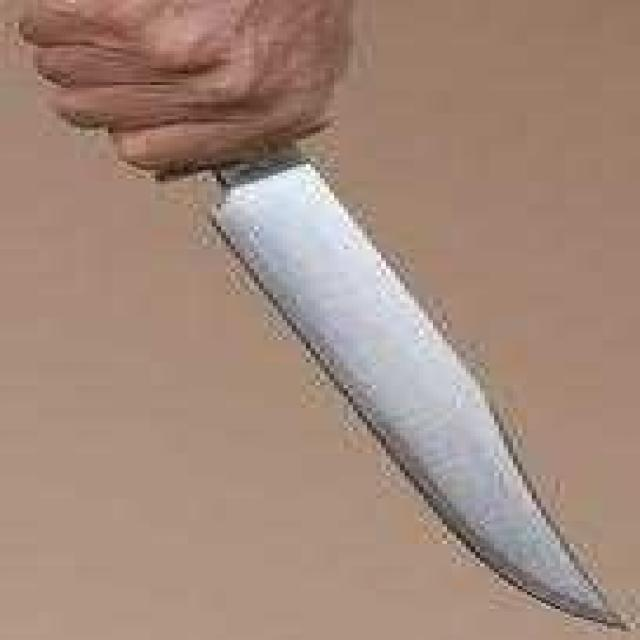weapon: (75, 0, 631, 632)
